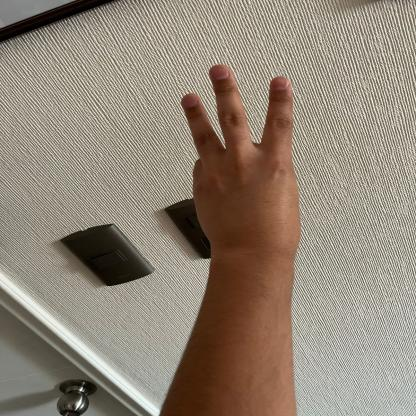W: (177, 58, 308, 255)
